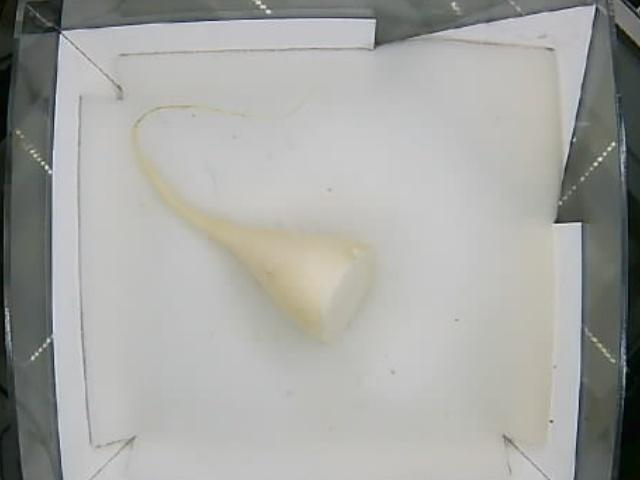Mooli: (191, 215, 376, 342)
